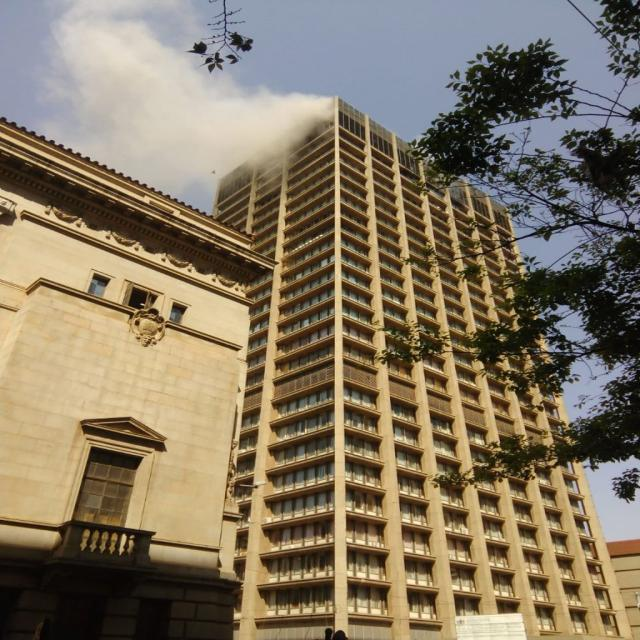smoke: (61, 19, 331, 179)
